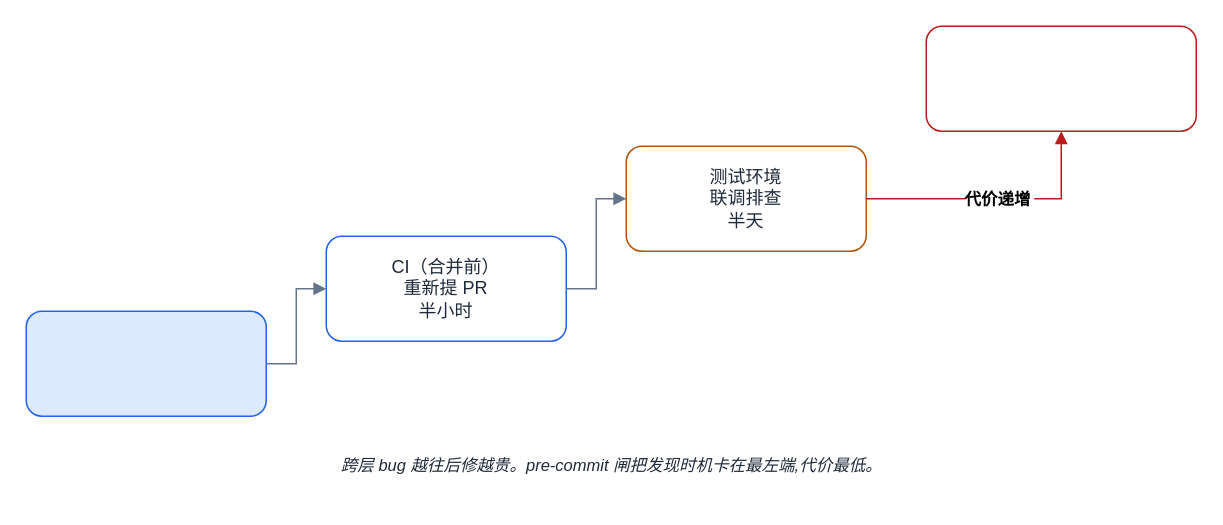
This 1223x525 diagram has some shape labels left out. The shapes that lost their labels are listed below. From the top down, each one's centre as x and y in pixels, then its label:
At point 1060,78: "线上 事故复盘 + 回滚 用户已感知".
At point 145,363: "pre-commit 改几行注解 5 秒".
